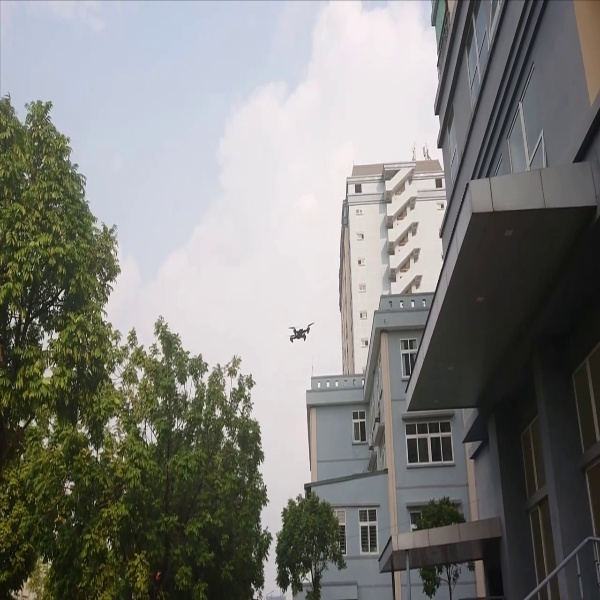drone: (287, 322, 315, 342)
